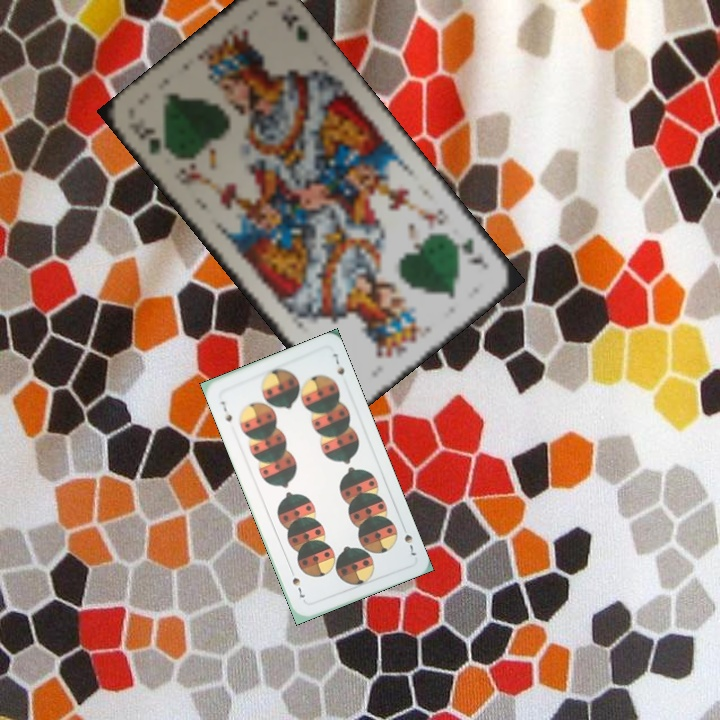GK: (445, 232, 491, 274), (143, 132, 175, 159)
S7: (398, 521, 420, 558), (216, 397, 235, 426)
